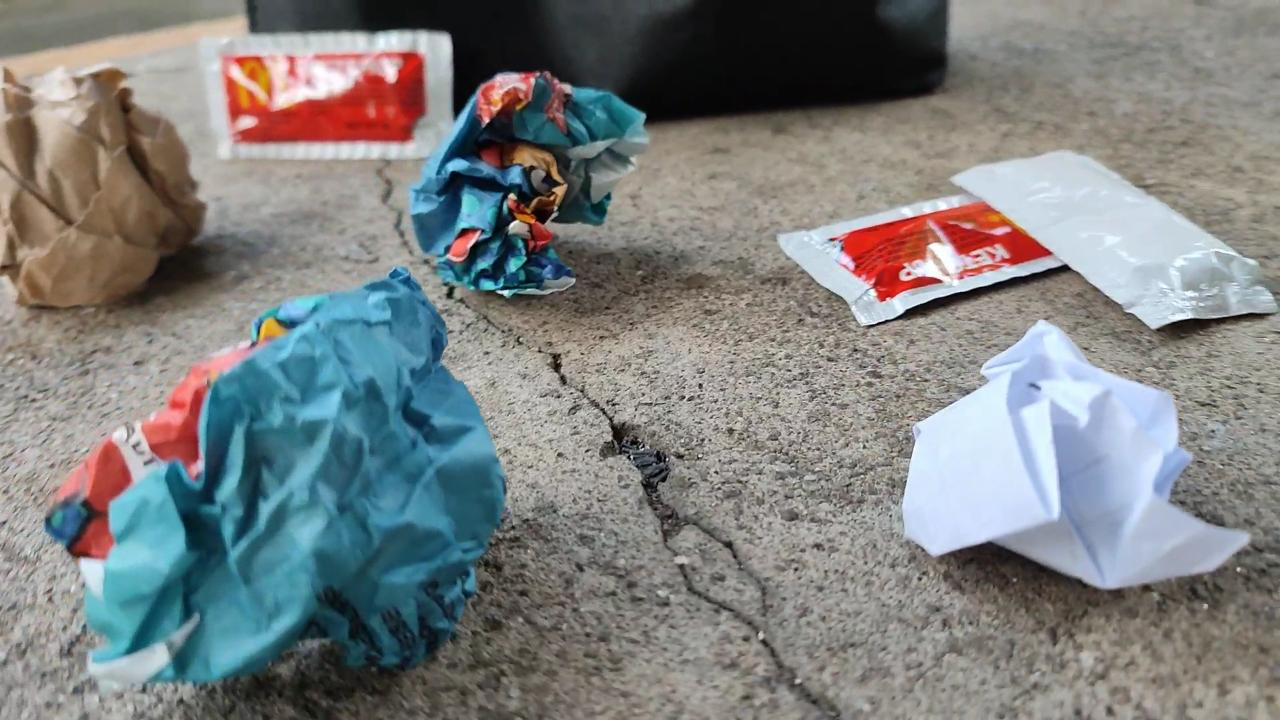Paper: (48, 256, 526, 690), (852, 335, 1266, 615), (414, 50, 658, 318), (2, 37, 212, 318)
